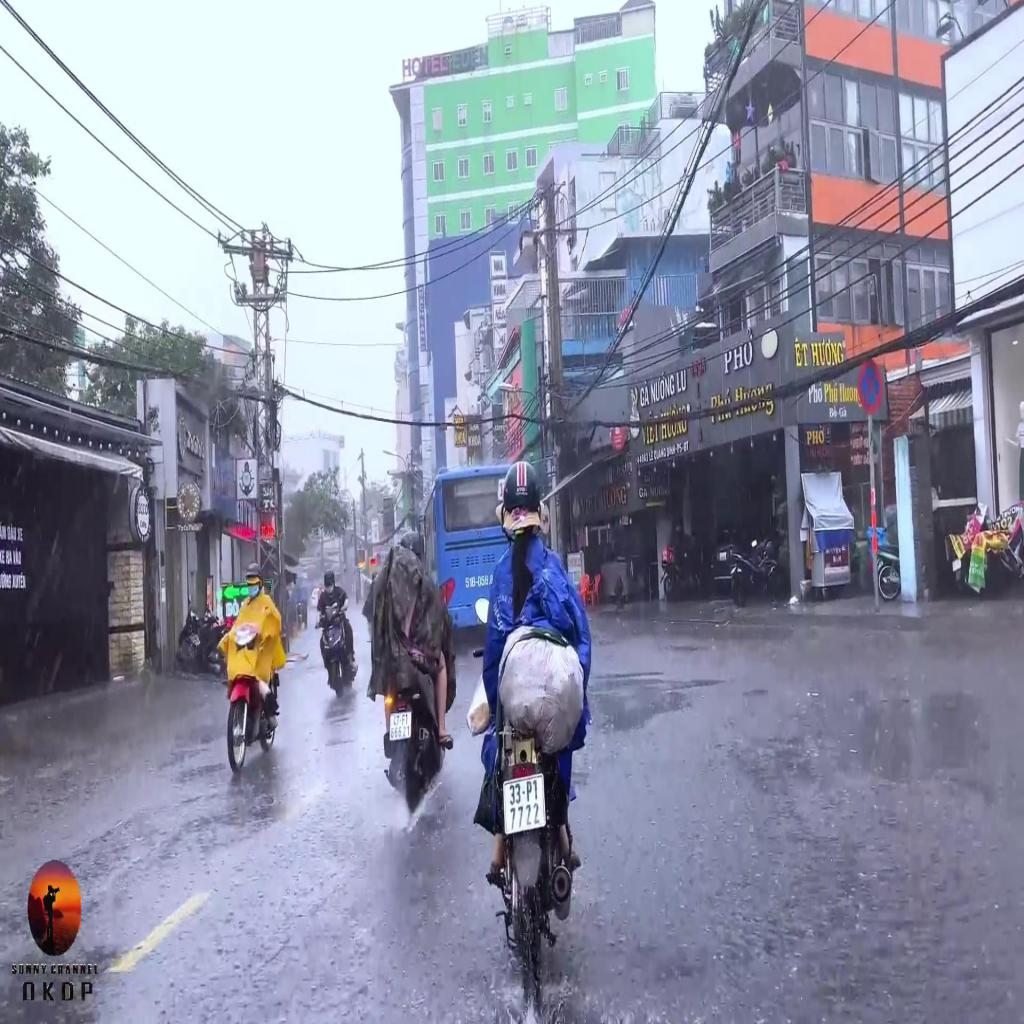cam_dung_xe_va_do_xe: (857, 360, 883, 412)
